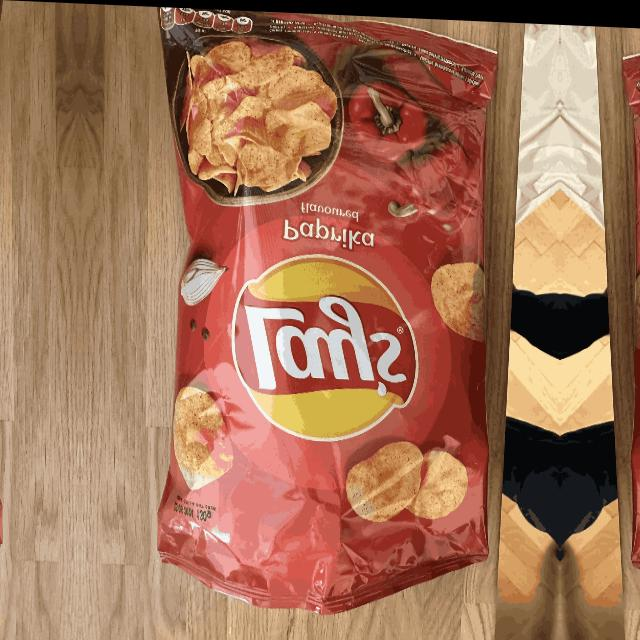lays: (232, 252, 420, 440)
